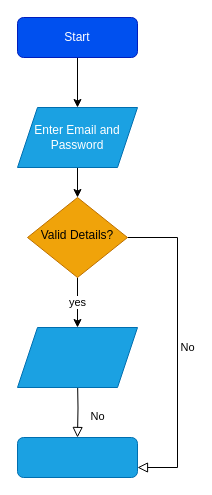
The diagram is 212 pixels wide and 495 high, and some of its shapes have lost their labels. Each missing label, with the box of its shape:
Create Account: (16, 326, 138, 388)
End: (16, 436, 138, 478)
